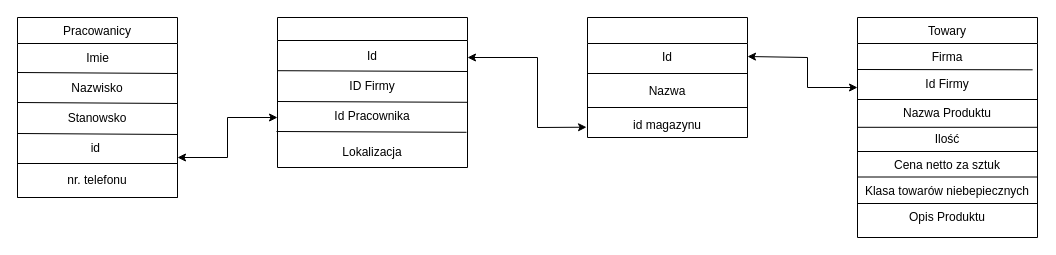
Some shapes in this 1056 by 255 pixel diagram are drawn without their labels. The shapes that lost their labels are listed below. From the top down, each one's box as (x1, y1, x2, y2) in pixels, then its label:
(276, 16, 468, 168): Magazyny
(586, 16, 748, 138): Firmy
